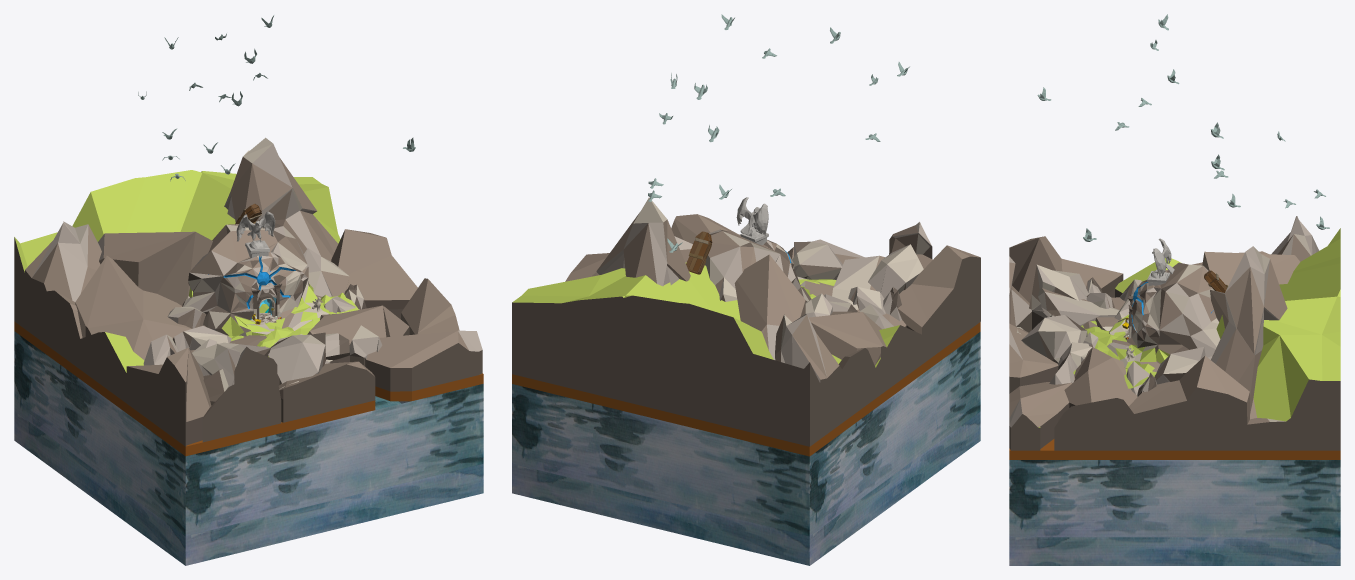
The model's file is dungeon_sketchfab-02.fbx.
The picture shows the model from 3 angles, left to right: view 1: azimuth 30°, elevation 25°; view 2: azimuth 150°, elevation 25°; view 3: azimuth 270°, elevation 25°; orthographic projection. The views are drawn at different scales.
Visible parts, largest first — view 1: main_object, water, under_water, RG-Dungeon_Statue-02, birds; view 2: main_object, water, under_water, birds, RG-Dungeon_Statue-02, RG-Dungeon_Coffin; view 3: main_object, water, under_water, birds, RG-Dungeon_Statue-02.
Part boxes in pixels (x1=…): main_object: x1=14, y1=137, x2=483, y2=456; water: x1=14, y1=331, x2=483, y2=536; under_water: x1=14, y1=396, x2=483, y2=565; RG-Dungeon_Statue-02: x1=236, y1=211, x2=275, y2=257; birds: x1=138, y1=15, x2=415, y2=181; main_object: x1=512, y1=197, x2=980, y2=456; water: x1=512, y1=332, x2=980, y2=536; under_water: x1=512, y1=411, x2=980, y2=565; birds: x1=648, y1=14, x2=909, y2=252; RG-Dungeon_Statue-02: x1=736, y1=197, x2=768, y2=245; RG-Dungeon_Coffin: x1=686, y1=231, x2=712, y2=274; main_object: x1=1009, y1=216, x2=1340, y2=459; water: x1=1009, y1=460, x2=1340, y2=537; under_water: x1=1009, y1=537, x2=1340, y2=565; birds: x1=1037, y1=14, x2=1329, y2=241; RG-Dungeon_Statue-02: x1=1147, y1=238, x2=1174, y2=285.
Size of what is drawn, in the model's own units: 146 by 213 by 146.
